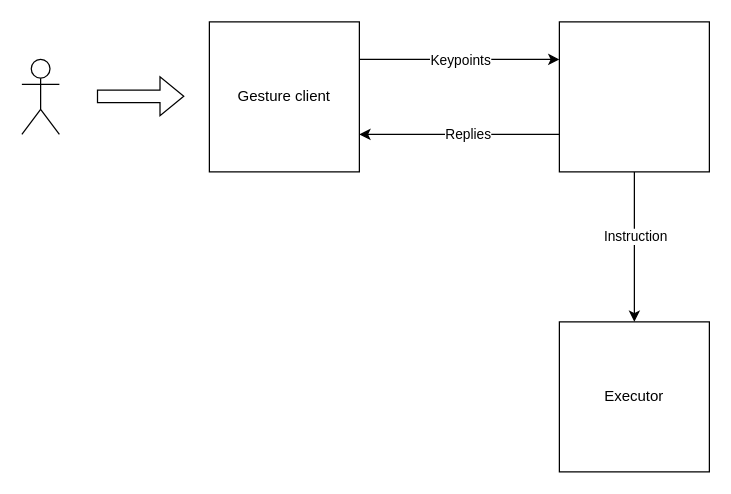
Image size: 731x494. Some labels were removed from this diagram. The centre of each missing label's shape, as x and y in pixels:
Control server: (633,96)
User: (40,96)
